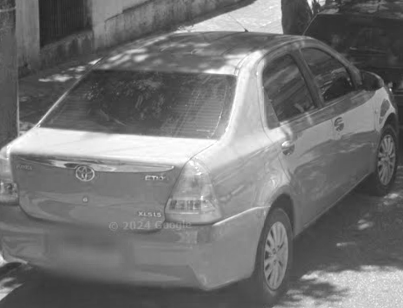car: (3, 29, 397, 299)
